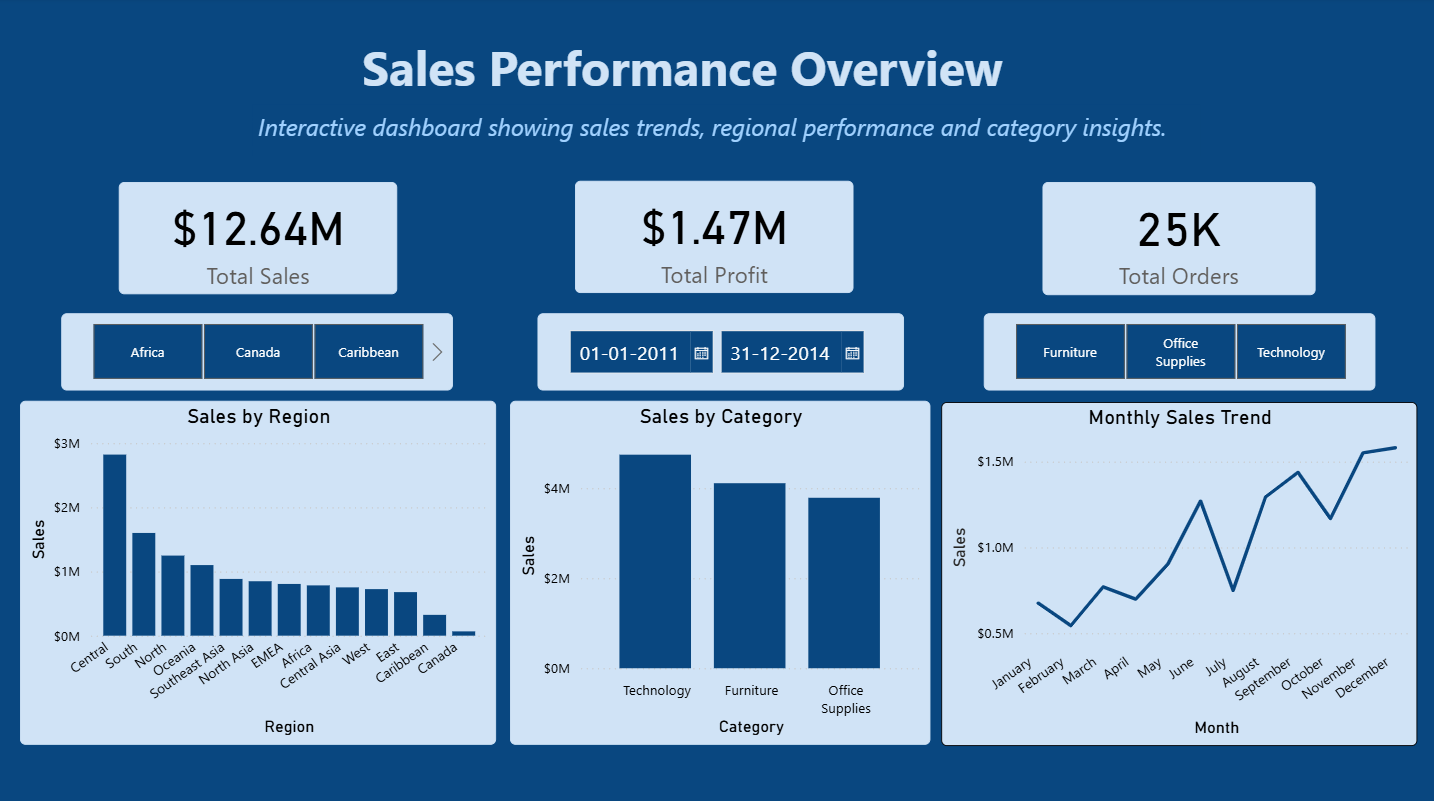

What the dashboard file says about the page in this screenshot:
{"tool":"powerbi","page":{"name":"Page 1","canvas":[1280,720],"ordinal":0},"visuals":[{"type":"card","fields":{"Values":["Sum(SuperStoreOrders.sales)"]},"box":[105.7,164.7,248.4,100.2],"z":0},{"type":"card","fields":{"Values":["Sum(SuperStoreOrders.profit)"]},"box":[511.8,163.3,248.4,100.2],"z":1000},{"type":"card","fields":{"Values":["Count(SuperStoreOrders.order_id)"]},"box":[927.9,165.1,243,101.2],"z":2000},{"type":"clusteredColumnChart","fields":{"Y":["Sum(SuperStoreOrders.sales)"],"Category":["SuperStoreOrders.region"]},"box":[17.8,359.5,424,306],"z":3000},{"type":"clusteredColumnChart","fields":{"Y":["Sum(SuperStoreOrders.sales)"],"Category":["SuperStoreOrders.category"]},"box":[454.2,359.5,374.6,306],"z":4000},{"type":"lineChart","title":"Monthly Sales Trend","fields":{"Category":["SuperStoreOrders.order_date.Variation.Date Hierarchy.Month"],"Y":["Sum(SuperStoreOrders.sales)"]},"box":[838.4,360.9,424,306],"z":5000},{"type":"textbox","box":[293.7,27.4,634,68.6],"z":6000},{"type":"textbox","box":[225,96.1,843.9,45.3],"z":7000},{"type":"slicer","fields":{"Values":["SuperStoreOrders.region"]},"box":[54.7,281.4,348.8,68.6],"z":8000},{"type":"slicer","fields":{"Values":["SuperStoreOrders.category"]},"box":[875.6,281.4,348.8,68.6],"z":9000},{"type":"slicer","fields":{"Values":["SuperStoreOrders.order_date"]},"box":[478.9,281.3,326.6,68.6],"z":10000}]}

Visuals, with their boxes in screenshot pixels (x1, y1, x2, y2), scaled from the page's 1280x720 canvas onto the 1434x801 screenshot:
card - Sum(SuperStoreOrders.sales): 118, 183, 397, 295
card - Sum(SuperStoreOrders.profit): 573, 182, 852, 293
card - Count(SuperStoreOrders.order_id): 1040, 184, 1312, 296
clusteredColumnChart - Sum(SuperStoreOrders.sales) x SuperStoreOrders.region: 20, 400, 495, 740
clusteredColumnChart - Sum(SuperStoreOrders.sales) x SuperStoreOrders.category: 509, 400, 929, 740
"Monthly Sales Trend" lineChart: 939, 402, 1414, 742
textbox: 329, 30, 1039, 107
textbox: 252, 107, 1198, 157
slicer - SuperStoreOrders.region: 61, 313, 452, 389
slicer - SuperStoreOrders.category: 981, 313, 1372, 389
slicer - SuperStoreOrders.order_date: 537, 313, 902, 389
